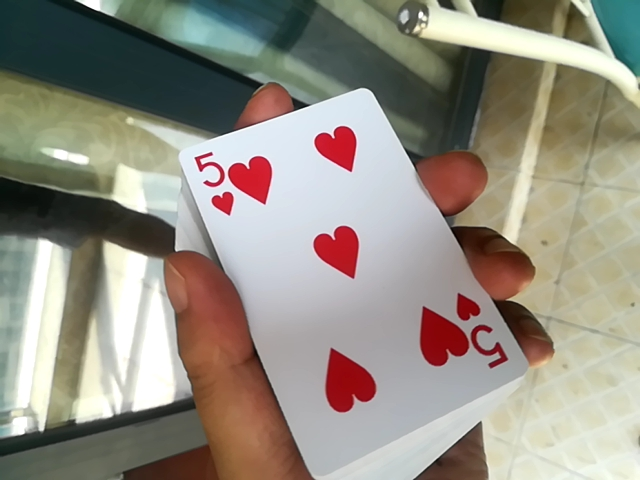hx 5: (147, 84, 507, 472)
